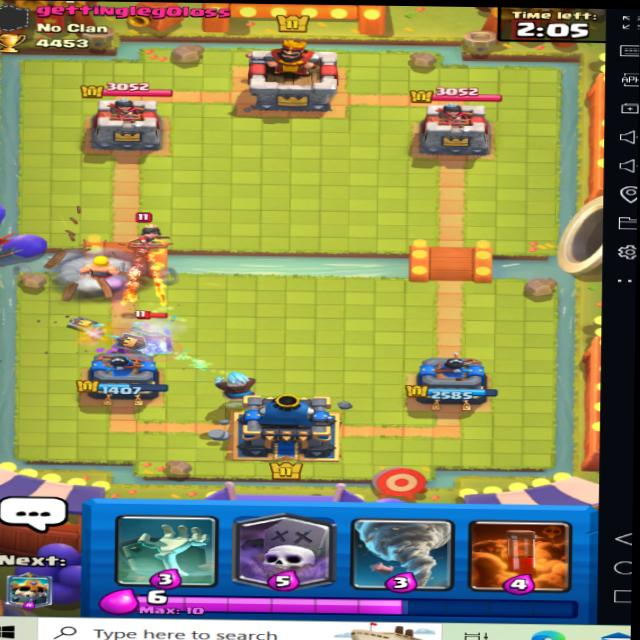guards: (132, 302, 177, 352)
princess: (128, 211, 167, 258)
